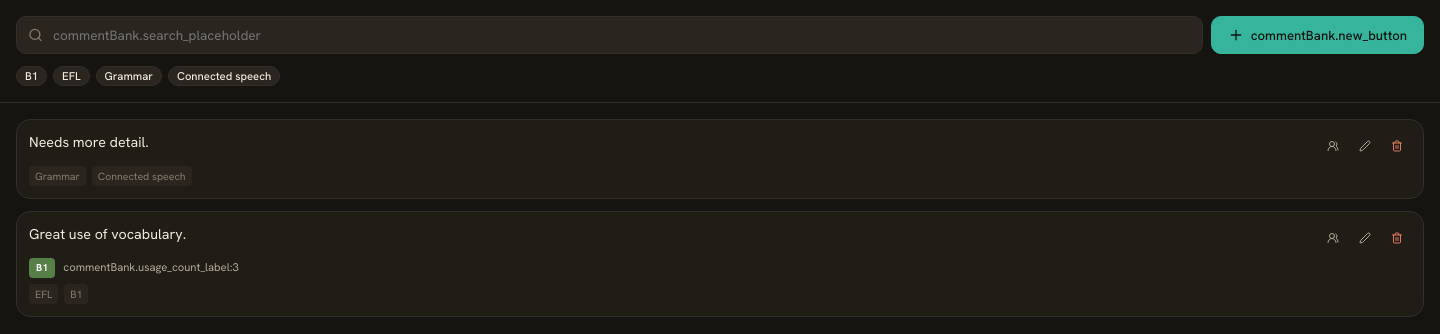
Test case: CommentBankManager fullPage sidebar › matches the tag label shown on the chip, not only the stored slug
Expected: the text "Connected speech" is shown, [92,166,192,186]
Type "Connected speech" into the field labelled "commentBank.search_placeholder" at (609, 35), box [16,16,1203,54]
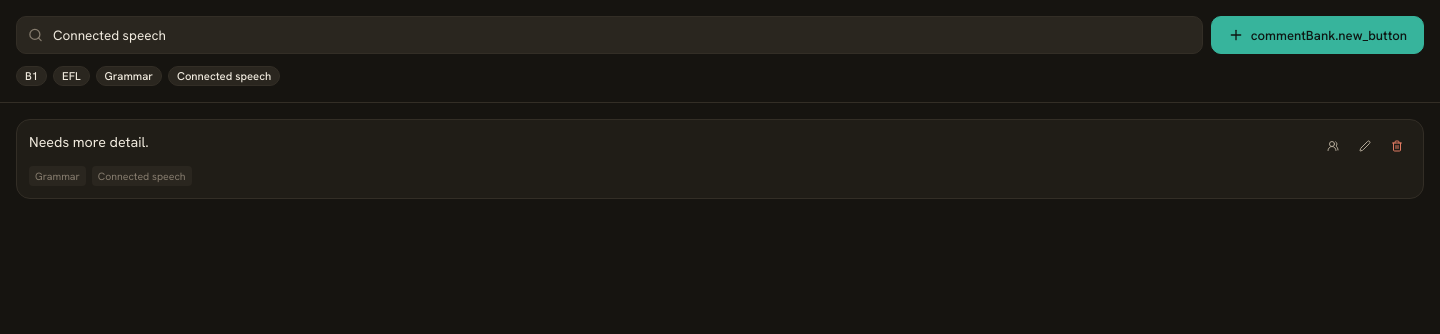
Expected: the text "Needs more detail." is shown, [29,133,149,151]
Expected: the text "Great use of vocabulary." is gone
